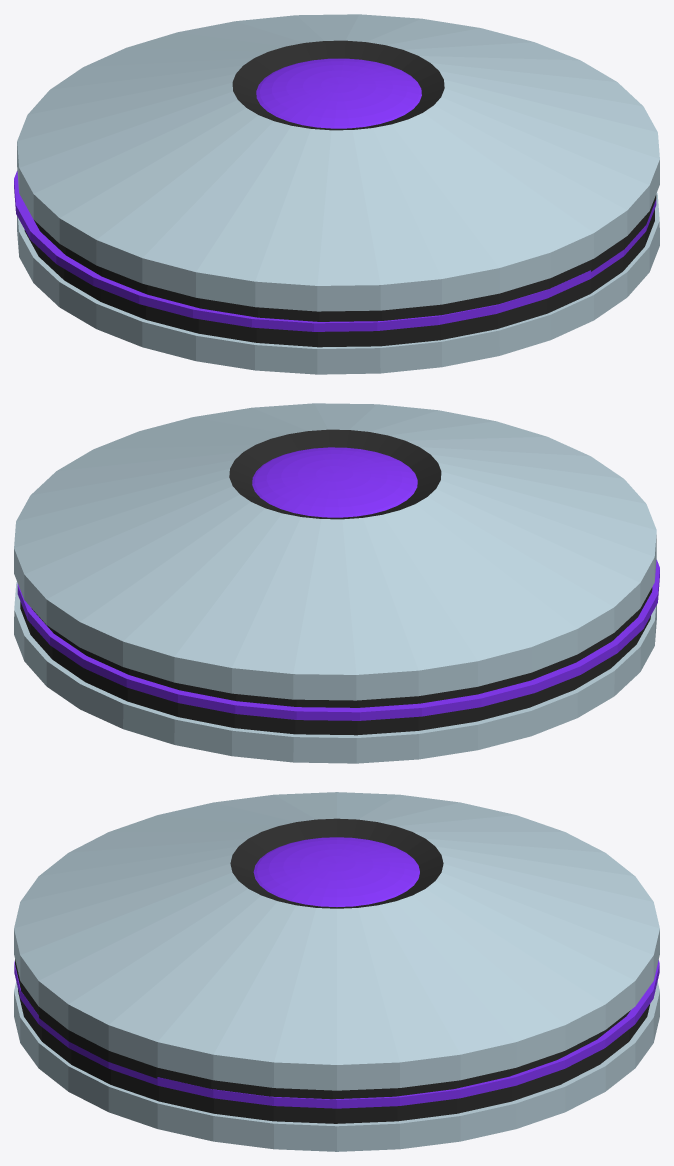
File: decoy02.fbx
3 renders of one model, top to bottom at view 1: azimuth 30°, elevation 25°; view 2: azimuth 150°, elevation 25°; view 3: azimuth 270°, elevation 25°, orthographic.
Visible parts, largest first — view 1: Circle; view 2: Circle; view 3: Circle.
Boxes of the visible parts, bbox=[...] form: Circle: bbox=[14, 14, 659, 374]; Circle: bbox=[14, 403, 659, 763]; Circle: bbox=[14, 792, 659, 1151].
Size of the model in its own units: 4 by 1.5 by 3.97.
